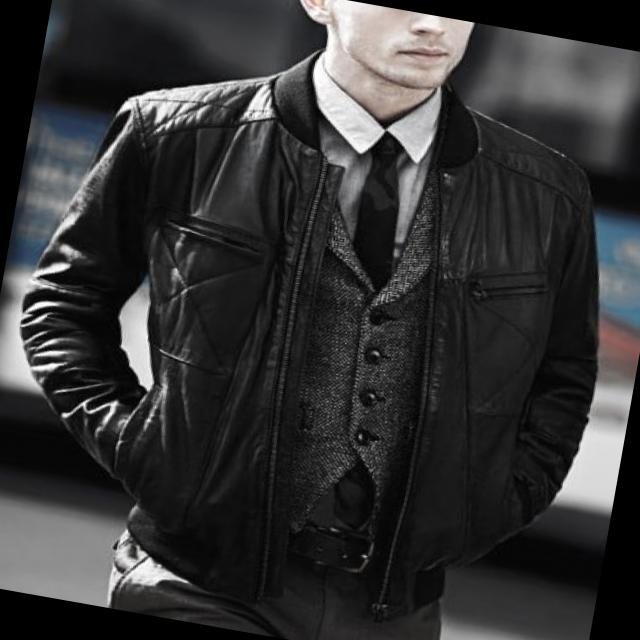Jacket: (0, 37, 639, 625)
